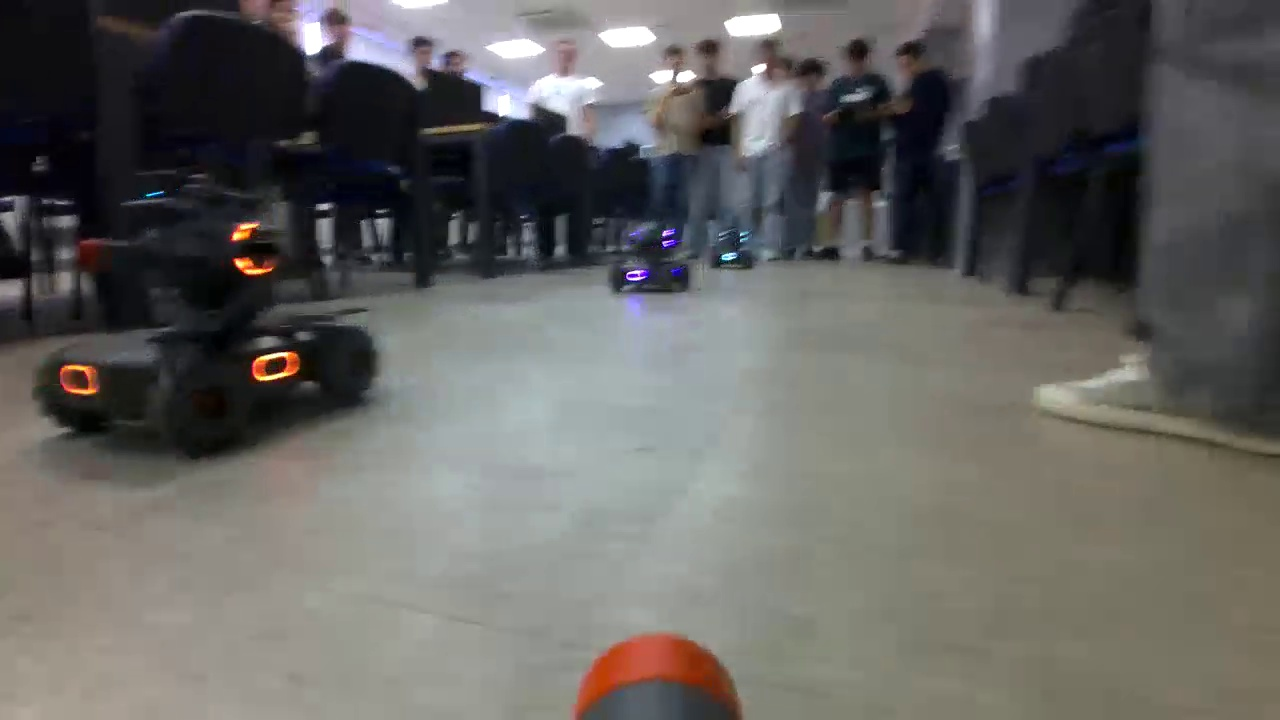robot: (34, 167, 374, 460), (610, 219, 690, 294), (712, 226, 762, 270)
